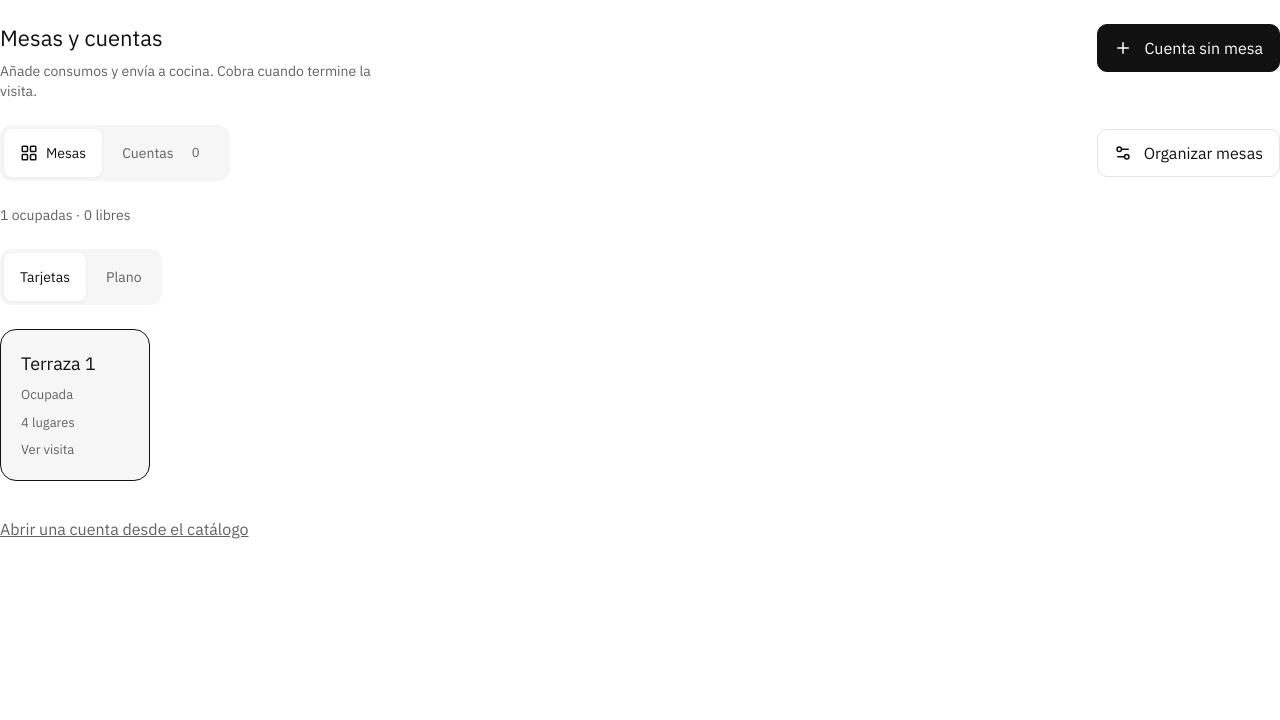
a visit with an unloaded representative remains occupied and cannot open another account or deactivate its table
Check: the text "1 ocupadas · 0 libres" is shown, box [0,206,130,224]
Click the button "Terraza 1 Ocupada 4 lugares Ver visita" at (75, 405), box [0,330,150,481]
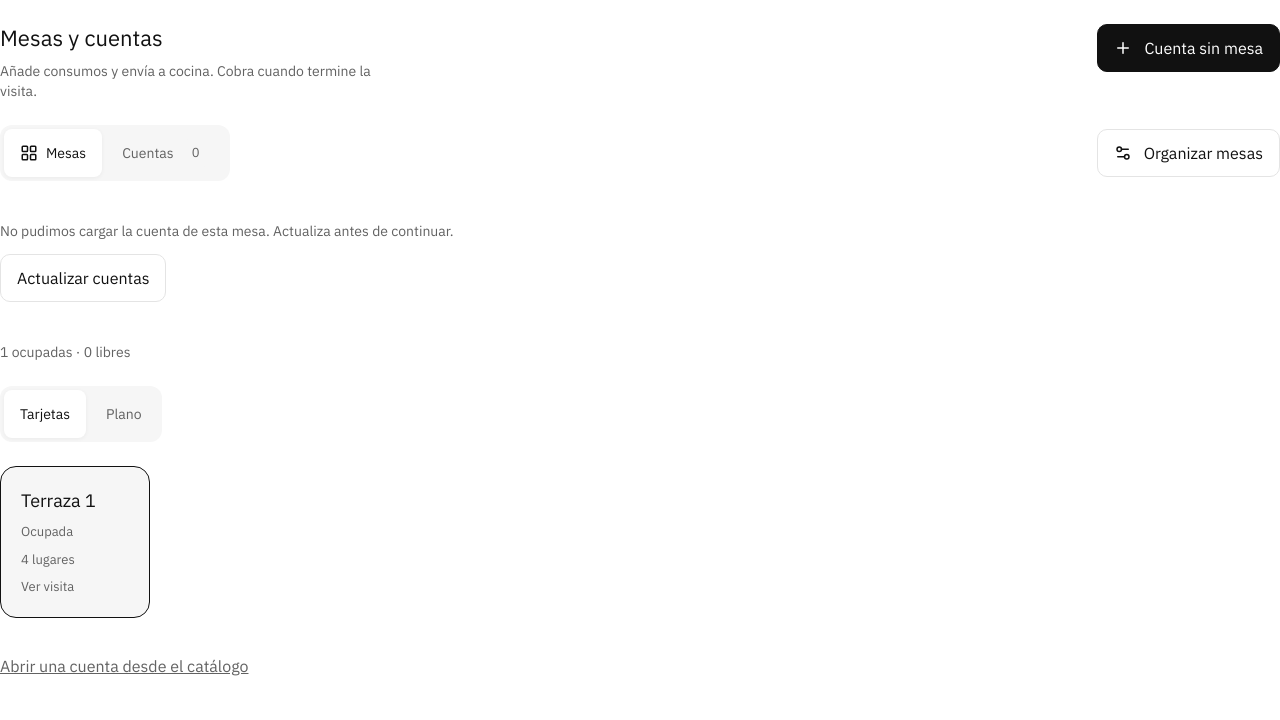
Check: the message shows "Actualiza antes de continuar", box [0,222,454,240]
Click the button "Organizar mesas" at (1188, 153), box [1097,129,1279,177]
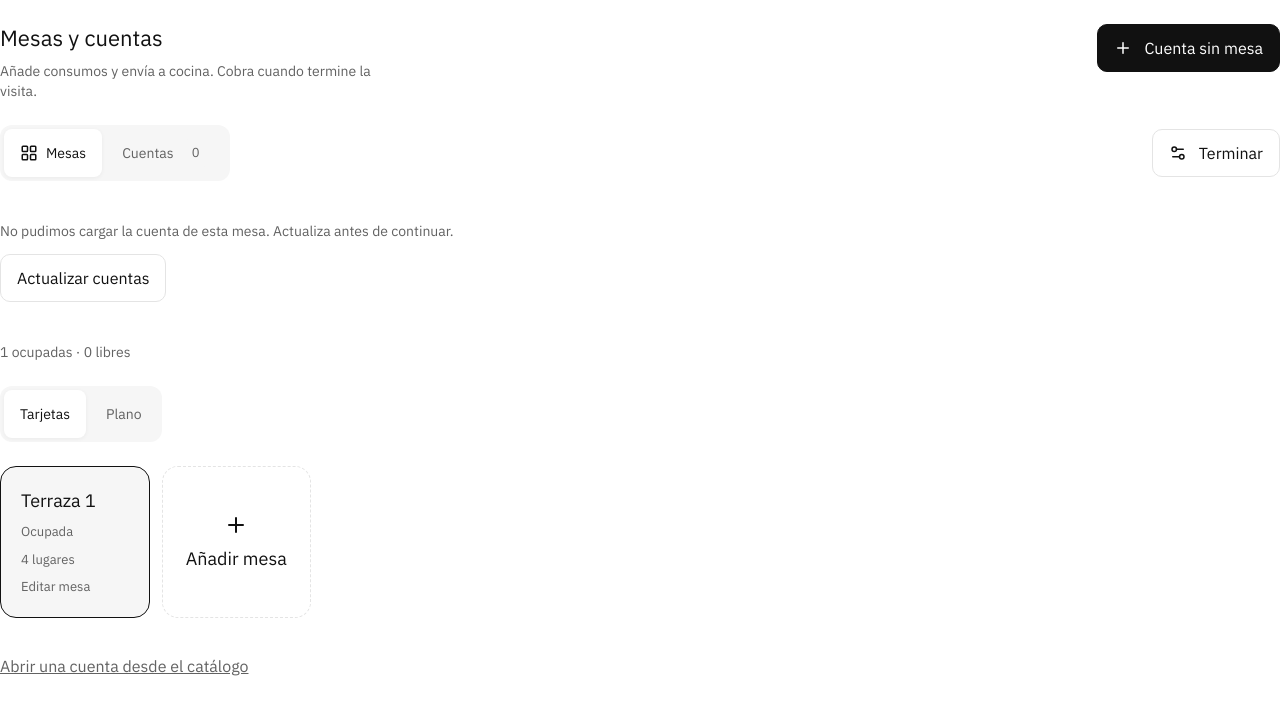
Click the button "Terraza 1 Ocupada 4 lugares Editar mesa" at (75, 542), box [0,466,150,618]
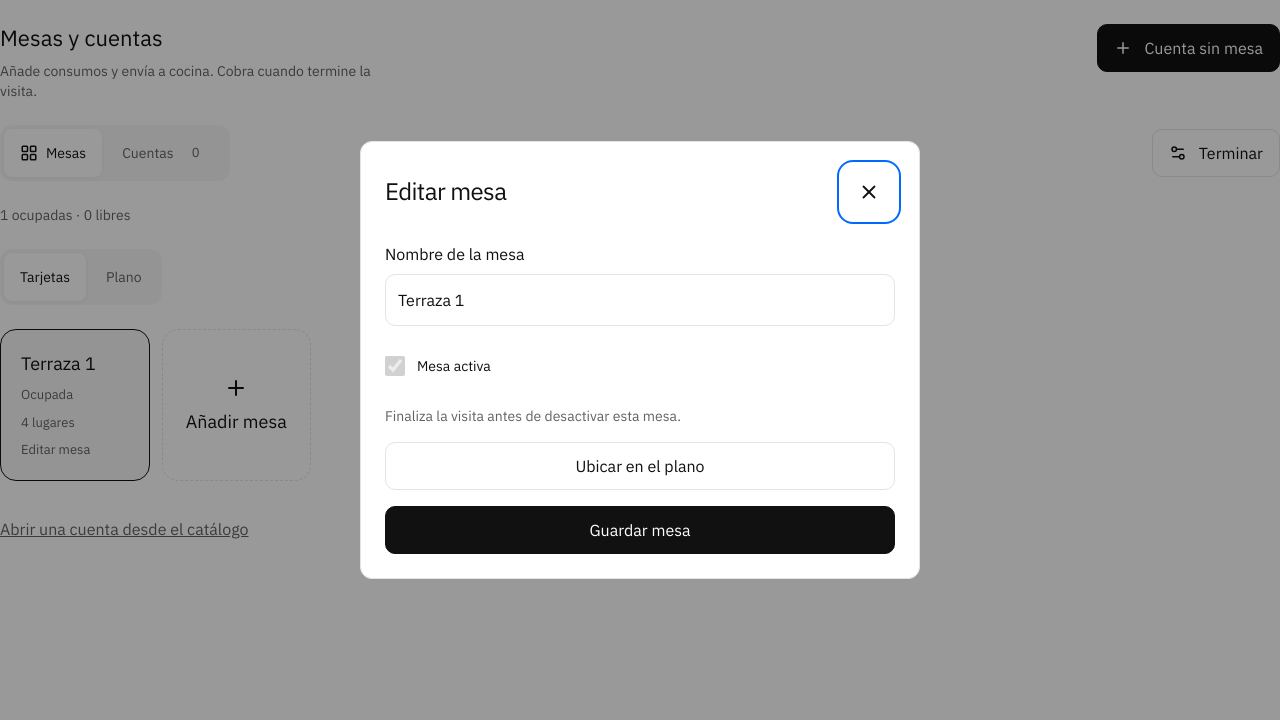
Check: the checkbox labelled "Mesa activa" is disabled, box [385,356,405,376]
Check: the text "Finaliza la visita antes de desactivar esta mesa." is shown, box [385,407,681,425]
